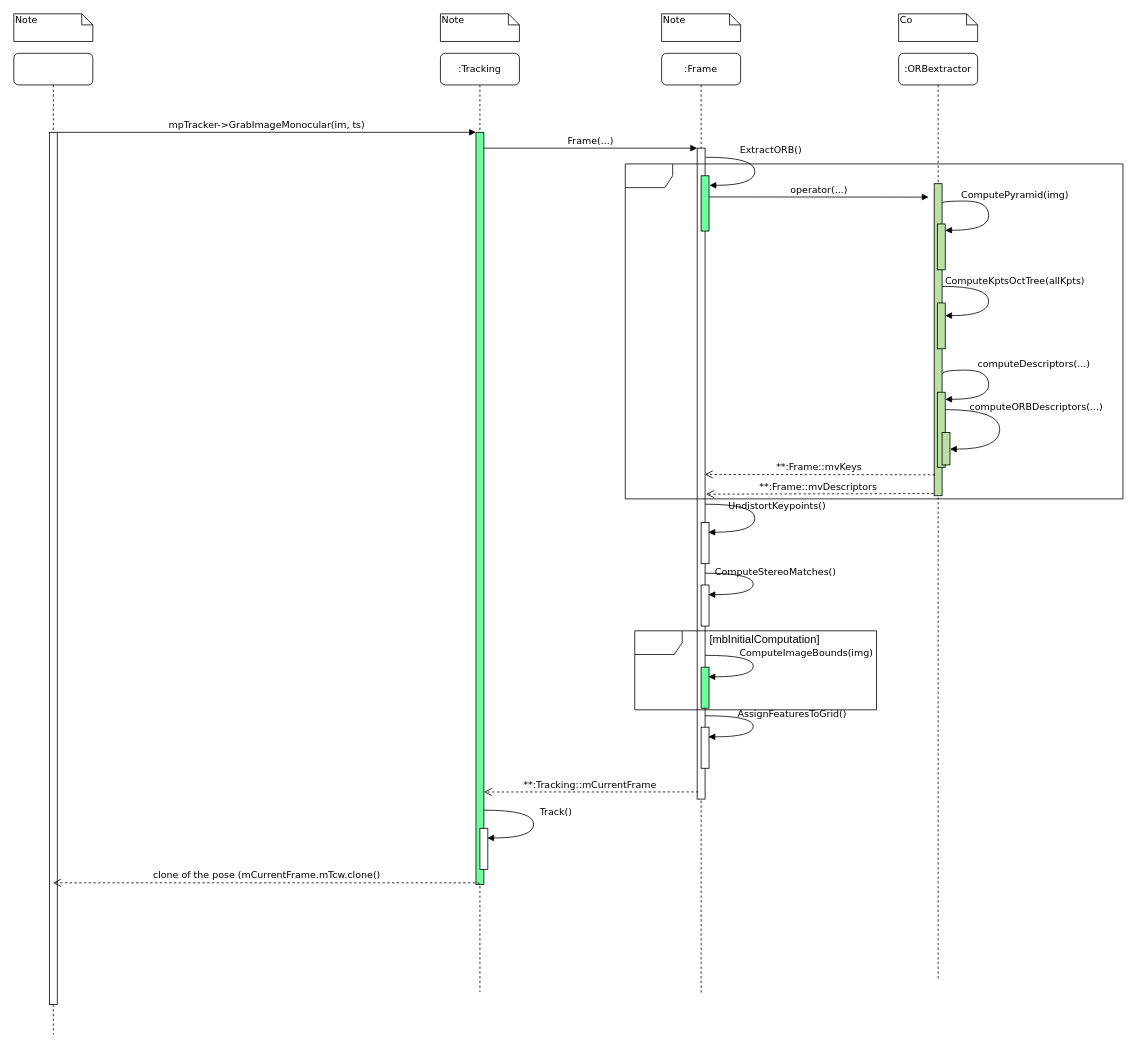
The diagram is 1137 pixels wide and 1048 high, and some of its shapes have lost their labels. The shapes that lost their labels are listed below. From the top down, each one's box as (x1, y1, x2, y2) in pixels, then its label:
(624, 163, 1123, 499): essence
(13, 53, 93, 1035): :System
(634, 630, 877, 710): alt
